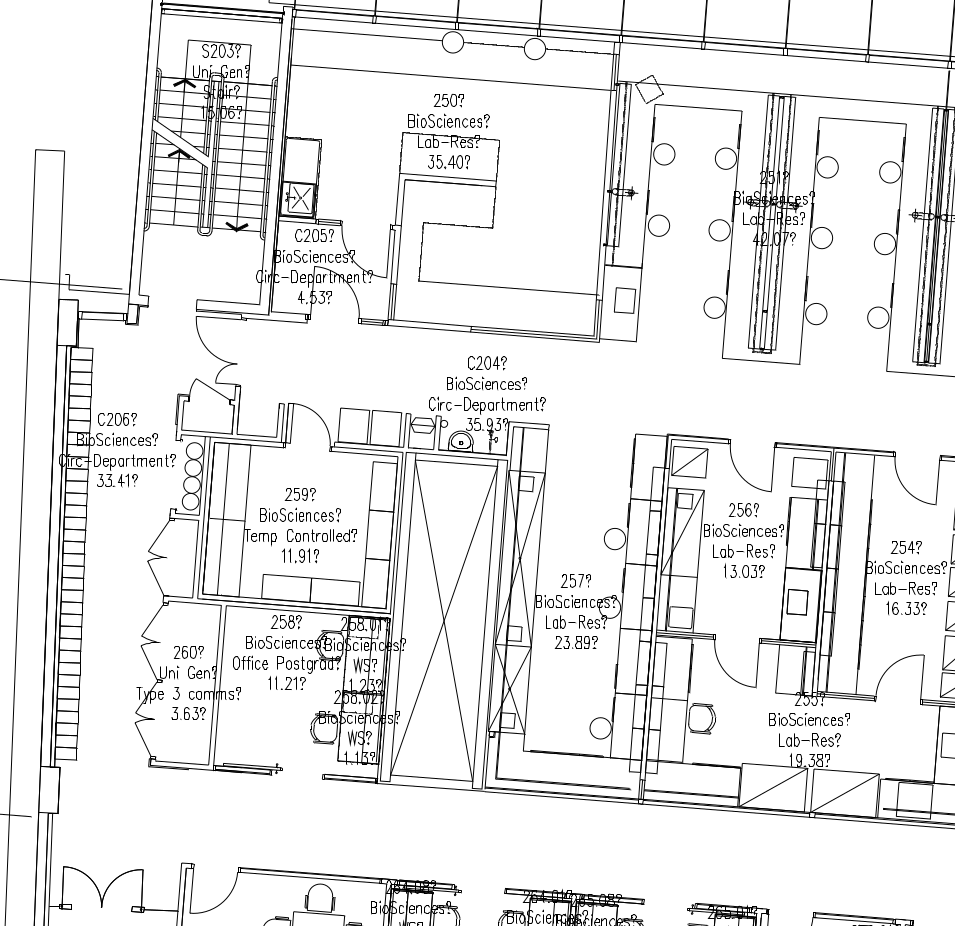door: (57, 853, 148, 918), (188, 313, 244, 386), (187, 853, 243, 926), (890, 448, 948, 513), (727, 436, 785, 501), (870, 647, 928, 712), (708, 631, 766, 696), (305, 261, 364, 323), (334, 223, 393, 285), (282, 392, 337, 451)
